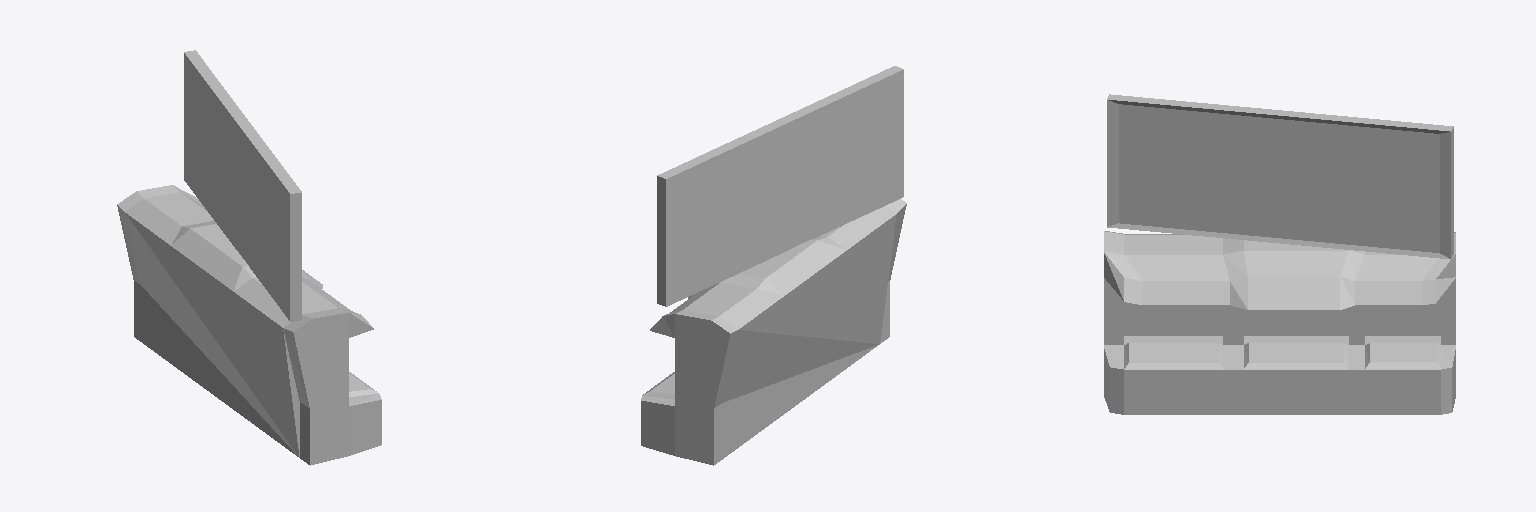
File: static_forward.obj
The picture shows the model from 3 angles: view 1: azimuth 30°, elevation 25°; view 2: azimuth 150°, elevation 25°; view 3: azimuth 270°, elevation 25°; orthographic projection.
Parts seen in each view (by area): view 1: ground_Cube.005; view 2: ground_Cube.005; view 3: ground_Cube.005.
Part boxes in pixels (x1,y1,x2,y2): ground_Cube.005: (117, 50, 381, 465); ground_Cube.005: (641, 66, 906, 465); ground_Cube.005: (1104, 94, 1455, 414).
Size of the model in its own units: 3.34 by 8.56 by 10.